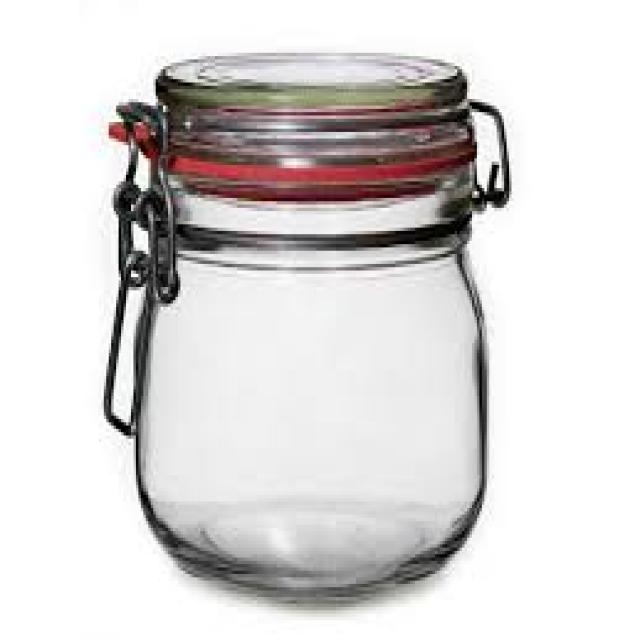glass: (128, 56, 482, 591)
